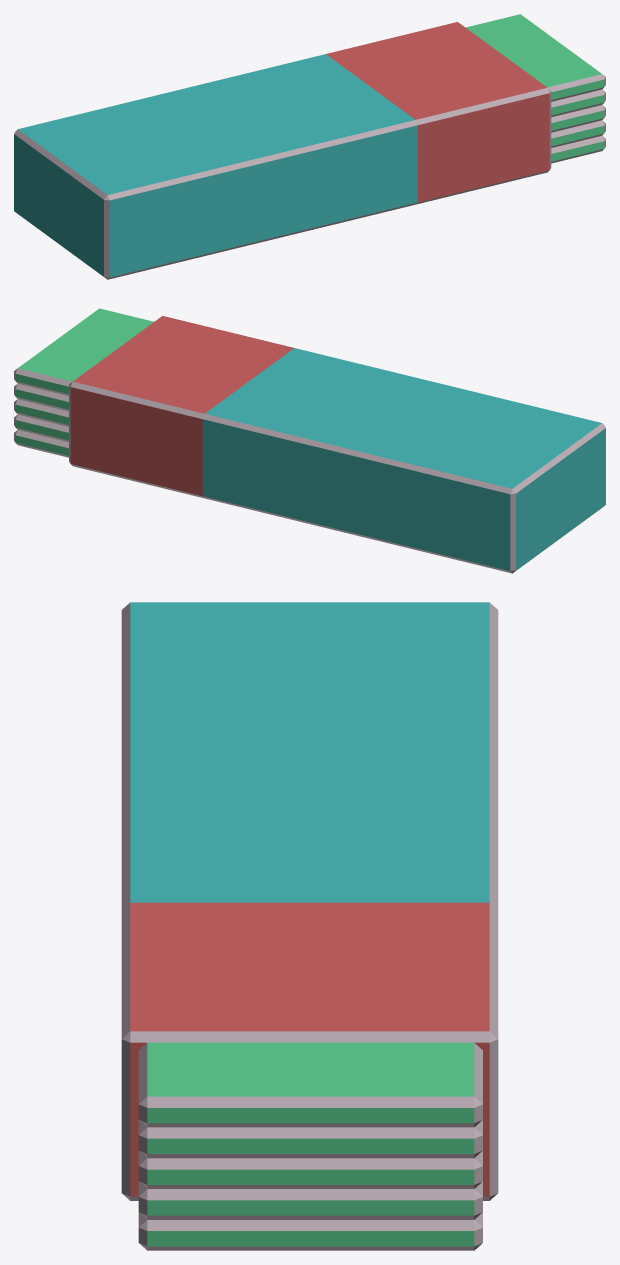
File: bubbleGUM2.fbx
The picture shows the model from 3 angles, top to bottom: view 1: azimuth 30°, elevation 25°; view 2: azimuth 150°, elevation 25°; view 3: azimuth 270°, elevation 25°; orthographic projection. The views are drawn at different scales.
Parts seen in each view (by area): view 1: polySurface61, polySurface60, Test14, Test12, Test11, Test9, Test7, Test3, Test5, Test8, Test4, Test10 (+1 smaller); view 2: polySurface61, polySurface60, Test14, Test12, Test11, Test9, Test7, Test3, Test5, Test4, Test10, Test6 (+1 smaller); view 3: polySurface61, polySurface60, Test12, Test14, Test11, Test5, Test9, Test7, Test3, Test6, Test4, Test10 (+1 smaller).
Part boxes in pixels (x1,y1,x2,y2): polySurface61: (14,54,417,277); polySurface60: (326,22,549,202); Test14: (14,87,551,279); Test12: (466,14,604,99); Test11: (547,74,605,101); Test9: (551,89,605,117); Test7: (551,105,605,132); Test3: (551,136,605,163); Test5: (551,120,605,147); Test8: (551,110,604,130); Test4: (551,141,604,161); Test10: (551,95,604,115); polySurface61: (202,348,605,570); polySurface60: (70,316,293,495); Test14: (69,381,605,573); Test12: (15,308,153,394); Test11: (14,368,71,395); Test9: (14,383,68,411); Test7: (14,399,68,426); Test3: (14,430,68,457); Test5: (14,414,68,442); Test4: (15,435,68,455); Test10: (15,389,68,409); Test6: (15,420,68,440); polySurface61: (130,602,489,902); polySurface60: (130,902,489,1196); Test12: (147,1042,474,1123); Test14: (121,602,498,1200); Test11: (138,1043,482,1127); Test5: (138,1181,482,1219); Test9: (138,1120,482,1158); Test7: (138,1151,482,1188); Test3: (138,1212,482,1250); Test6: (147,1200,474,1215); Test4: (147,1231,474,1246); Test10: (147,1138,474,1153).
Size of the model in its own units: 192 by 30.68 by 61.78.
